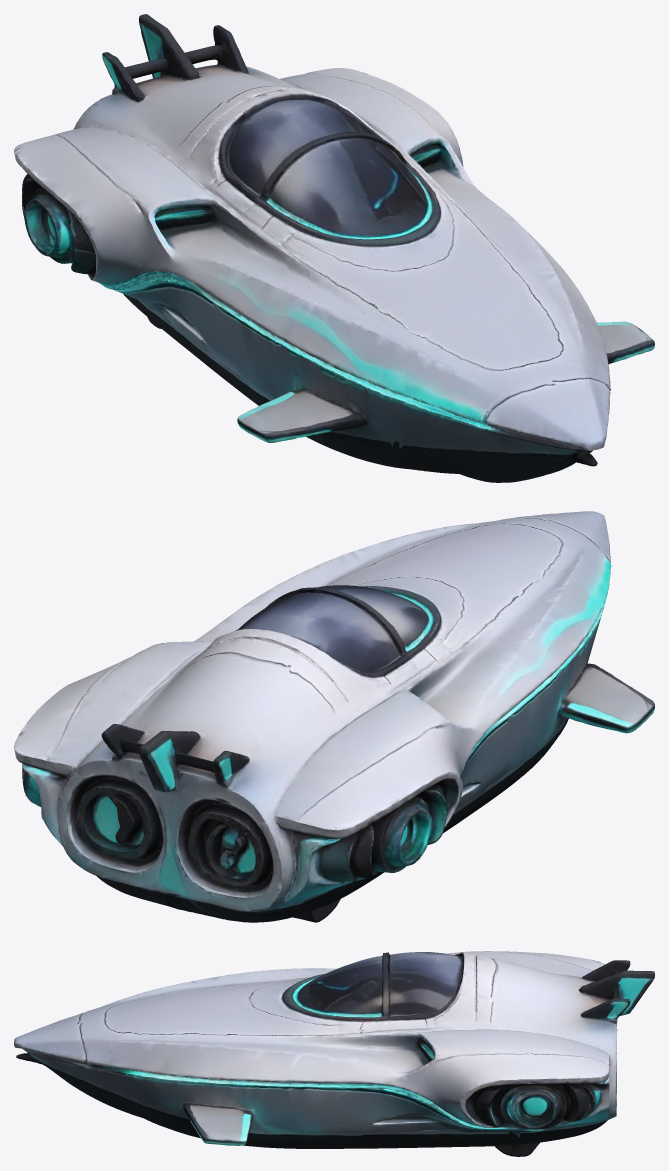
Rendered from boat_ironside.glb.
3 renders of one model, top to bottom at view 1: azimuth 30°, elevation 25°; view 2: azimuth 150°, elevation 25°; view 3: azimuth 270°, elevation 25°, orthographic. The views are drawn at different scales.
Visible parts, largest first — view 1: model; view 2: model; view 3: model.
Boxes of the visible parts, box(x1,y1,x2,y2) form: model: box(14, 14, 654, 482); model: box(14, 511, 654, 922); model: box(14, 951, 654, 1156).
Bounding box in the file's own units: 0.8914 × 0.5183 × 1.77.
Materials: 1 (1 with a texture image).
